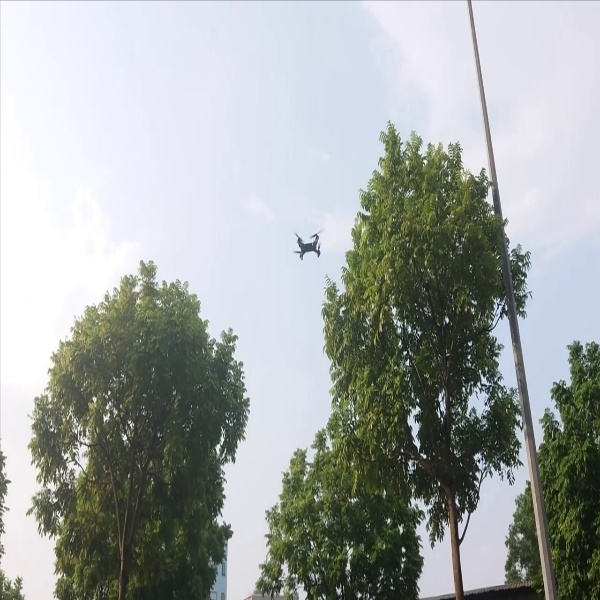drone: (291, 225, 330, 267)
